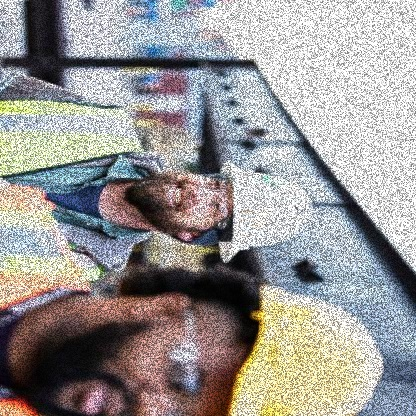vest: (5, 98, 151, 179)
white: (217, 153, 319, 271)
